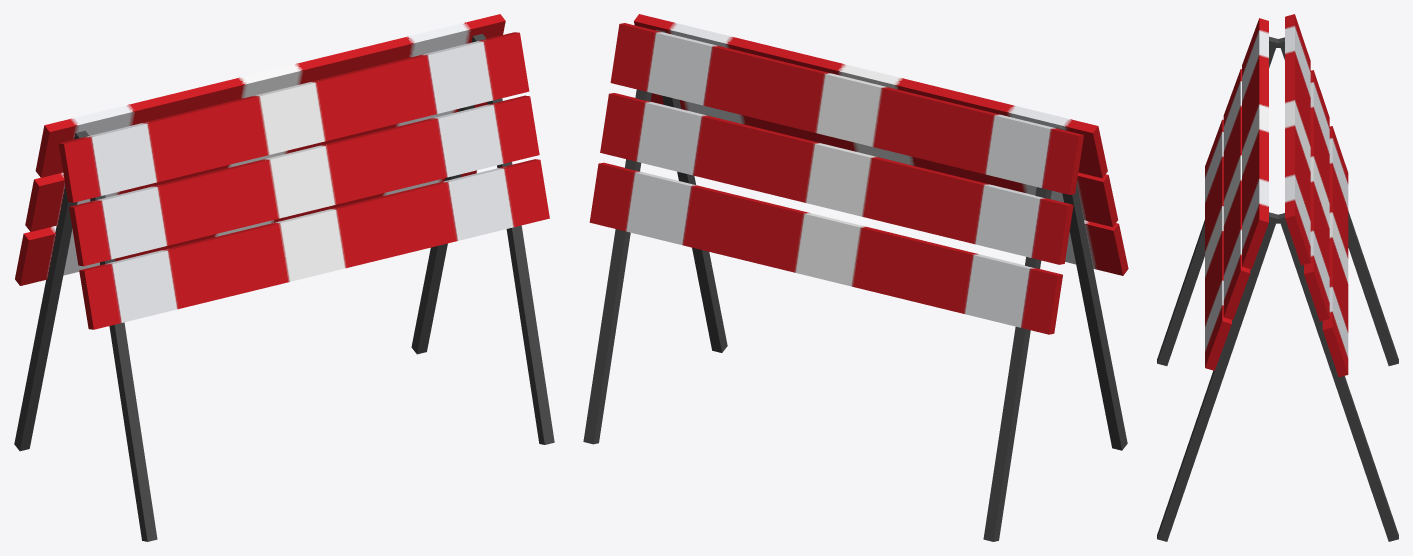
Rendered from block2.glb.
3 views of the same model, side by side, from view 1: azimuth 30°, elevation 25°; view 2: azimuth 150°, elevation 25°; view 3: azimuth 270°, elevation 25° (orthographic). The views are drawn at different scales.
Parts seen in each view (by area): view 1: Box033_Material #181_0; view 2: Box033_Material #181_0; view 3: Box033_Material #181_0.
Part boxes in pixels (x1,y1,x2,y2): Box033_Material #181_0: (14, 14, 554, 541); Box033_Material #181_0: (583, 14, 1128, 541); Box033_Material #181_0: (1157, 14, 1398, 541).
Size of the model in its own units: 0.9416 by 0.7315 by 0.4772.
2 materials, 1 textured.
